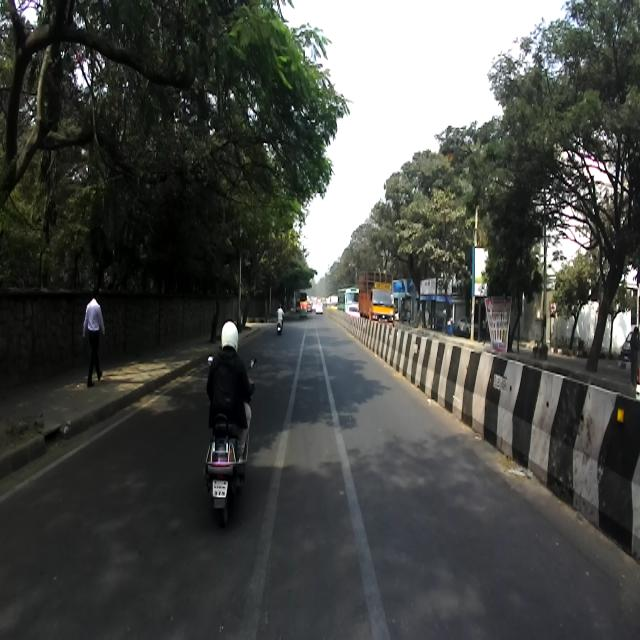motorcycle ahead at: (199, 413, 253, 532), (80, 289, 110, 396)
